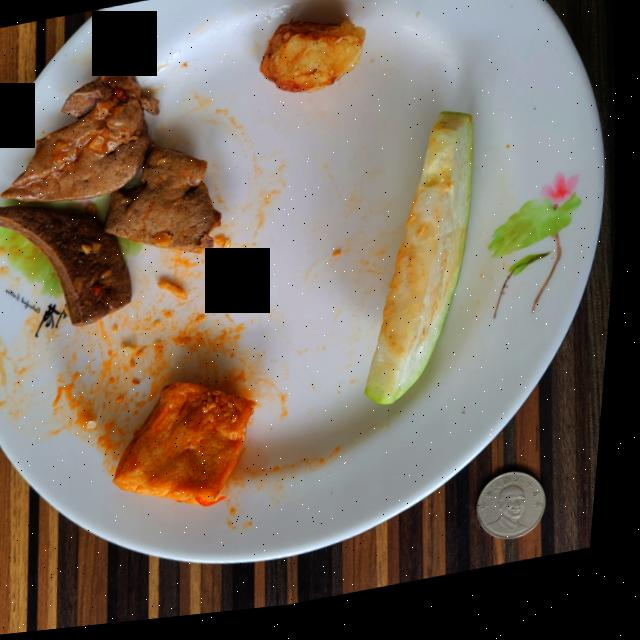coin: (485, 482, 555, 550)
creamy tofu: (121, 385, 261, 510)
fried potato: (261, 26, 366, 98)
guava -sliced-: (372, 120, 476, 413)
pig liver: (0, 62, 224, 327)
